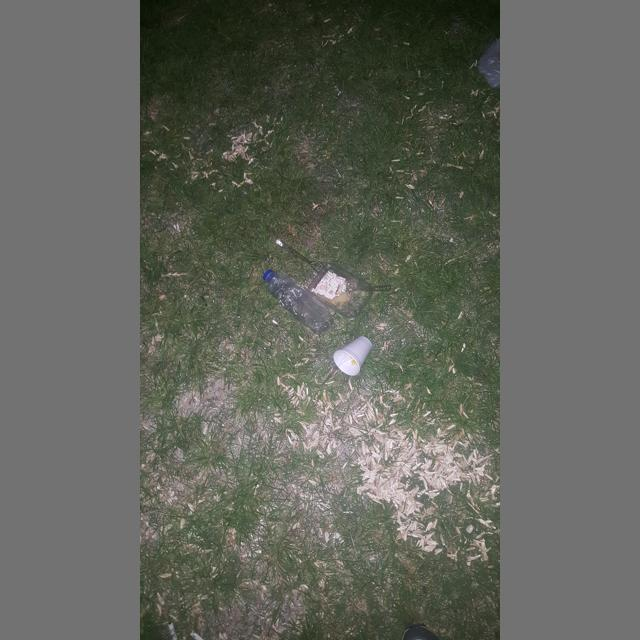litter: (263, 270, 334, 335), (308, 262, 374, 319), (276, 239, 334, 280), (333, 336, 373, 376), (321, 353, 353, 387), (479, 38, 500, 89), (336, 283, 391, 294), (263, 270, 273, 282)
